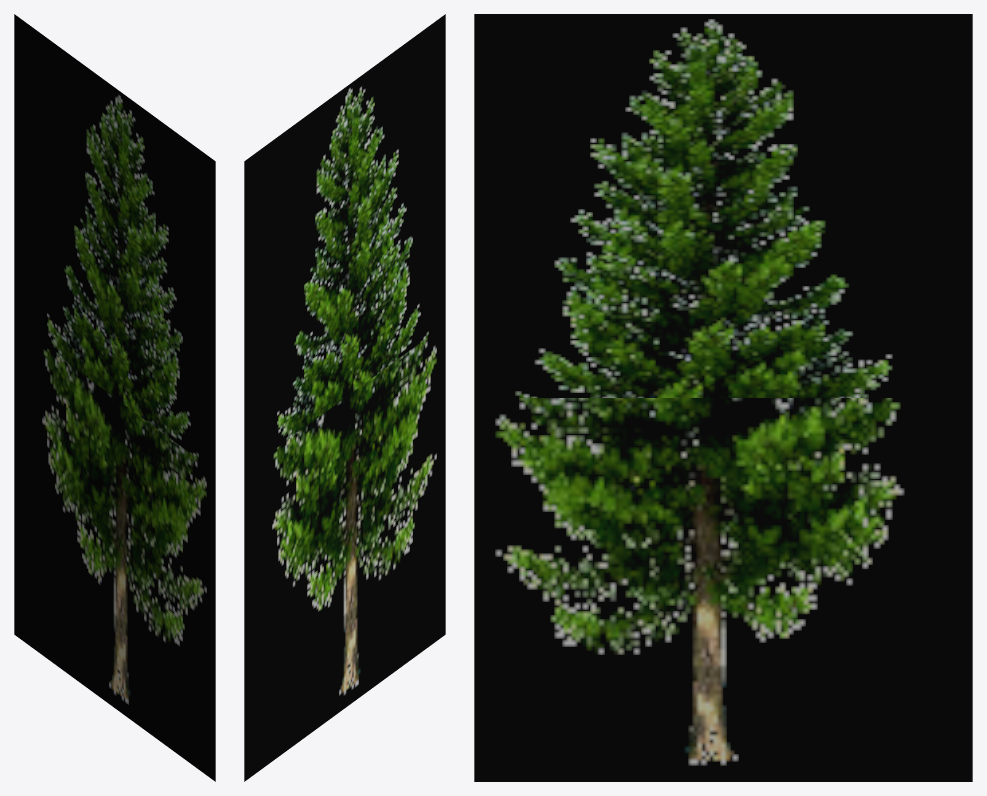
Rendered from tree.glb.
The picture shows the model from 3 angles, left to right: view 1: azimuth 30°, elevation 25°; view 2: azimuth 150°, elevation 25°; view 3: azimuth 270°, elevation 25°; orthographic projection. The views are drawn at different scales.
Visible parts, largest first — view 1: Plane; view 2: Plane; view 3: Plane.
Boxes of the visible parts, box(x1,y1,x2,y2) form: Plane: box(14, 14, 215, 781); Plane: box(244, 14, 445, 781); Plane: box(474, 14, 972, 781).
Bounding box in the file's own units: 2.11e-15 × 9.52 × 5.6.
Materials: 1 (1 with a texture image).
